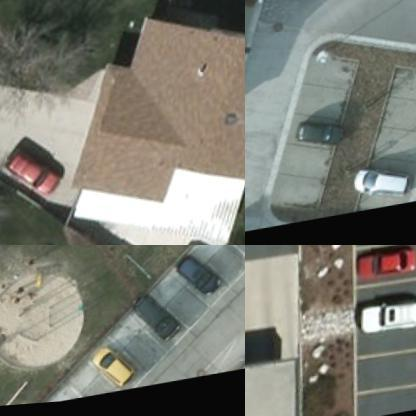car: (0, 140, 66, 205), (128, 288, 192, 350), (356, 161, 415, 209), (360, 298, 415, 348), (177, 252, 227, 305), (357, 247, 415, 286), (297, 115, 349, 157)
